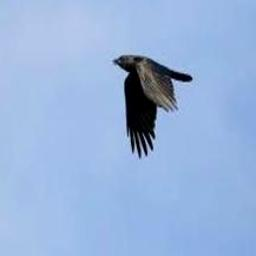Crow: (112, 55, 192, 159)
